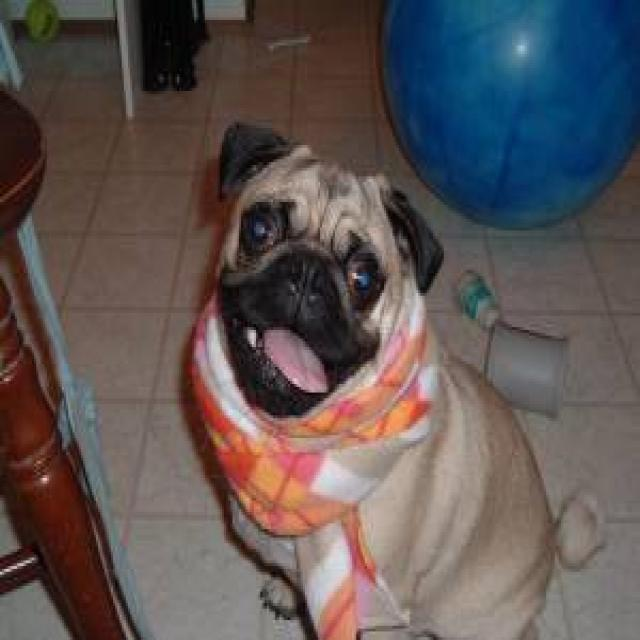dog-pug: (201, 117, 448, 427)
